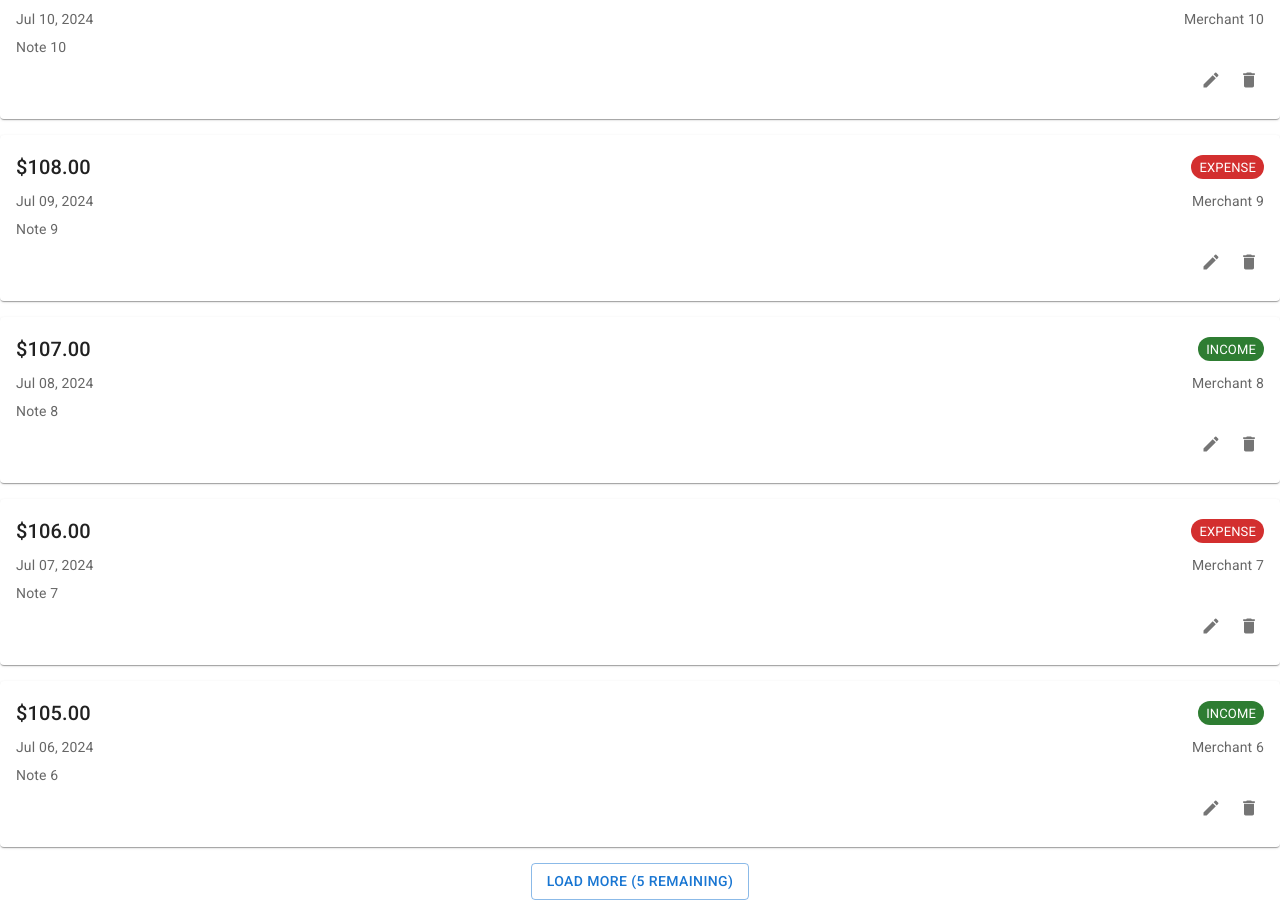
Test: MobileTransactionList › Pagination › should hide Load More button when all transactions are visible
The width and height of the screenshot is (1280, 900).
(page scrolled)
Click the button "Load More (5 remaining)": x=640, y=882 x1=531 y1=863 x2=749 y2=899
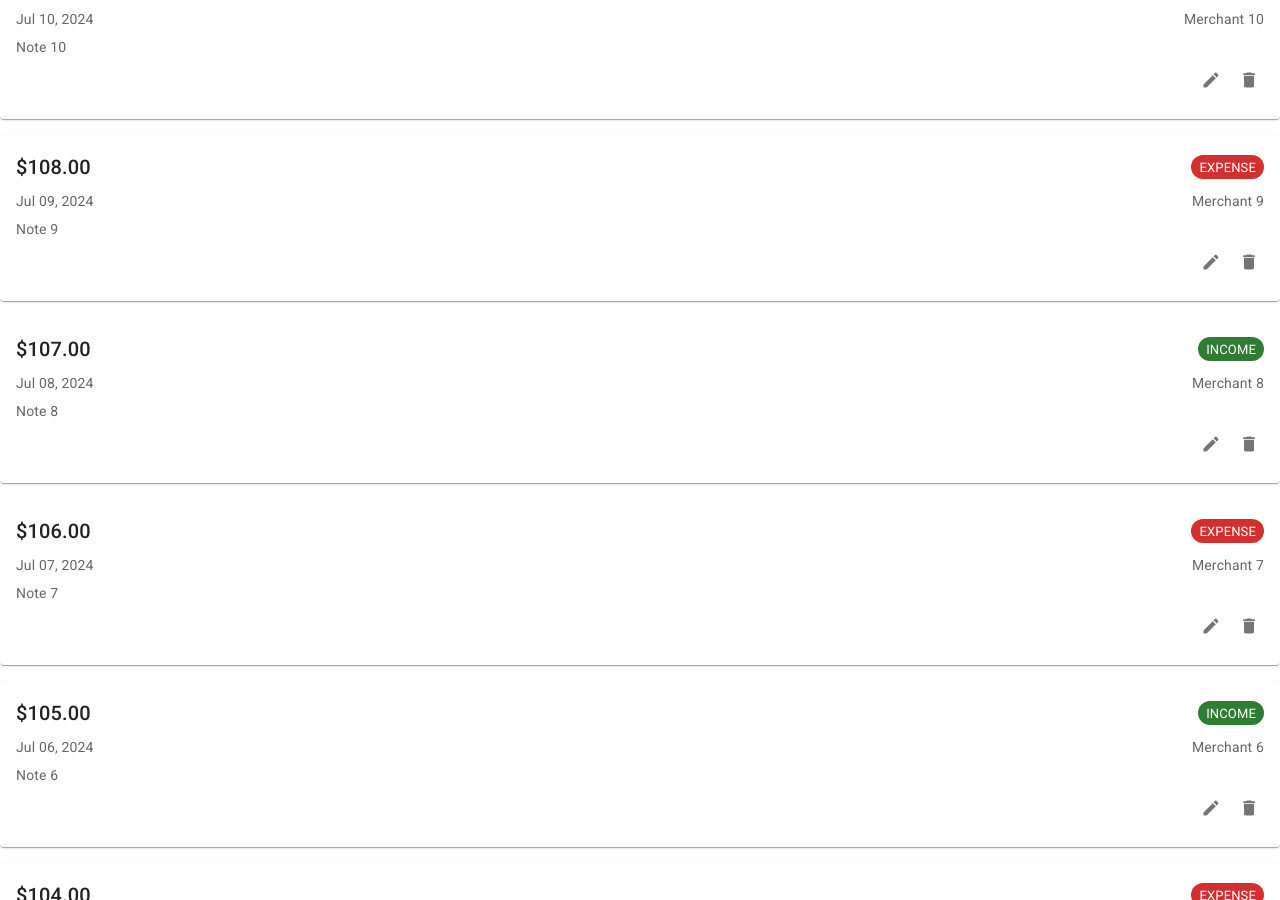
Expected: the button "Load More" is gone
